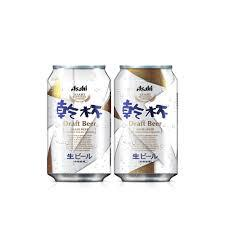beer: (44, 63, 181, 186)
